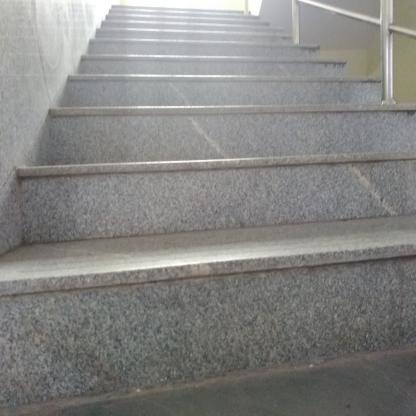stairs: (67, 78, 407, 360)
